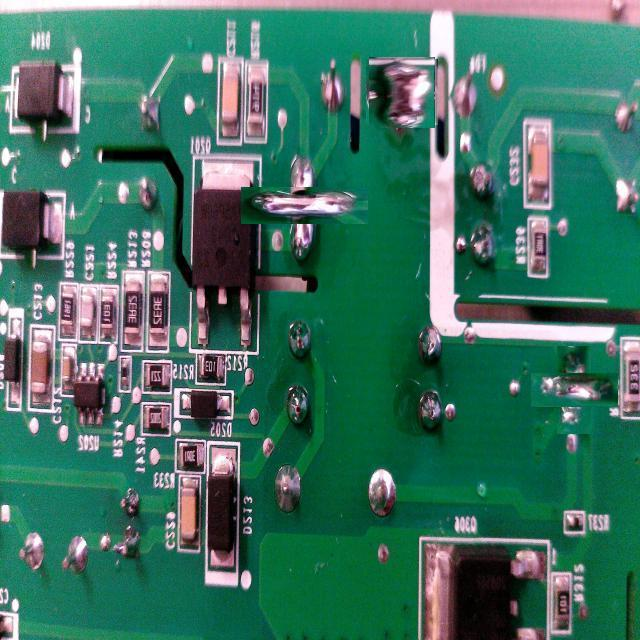Short_circuit: (263, 165, 346, 247), (368, 58, 437, 127), (544, 360, 605, 420)
